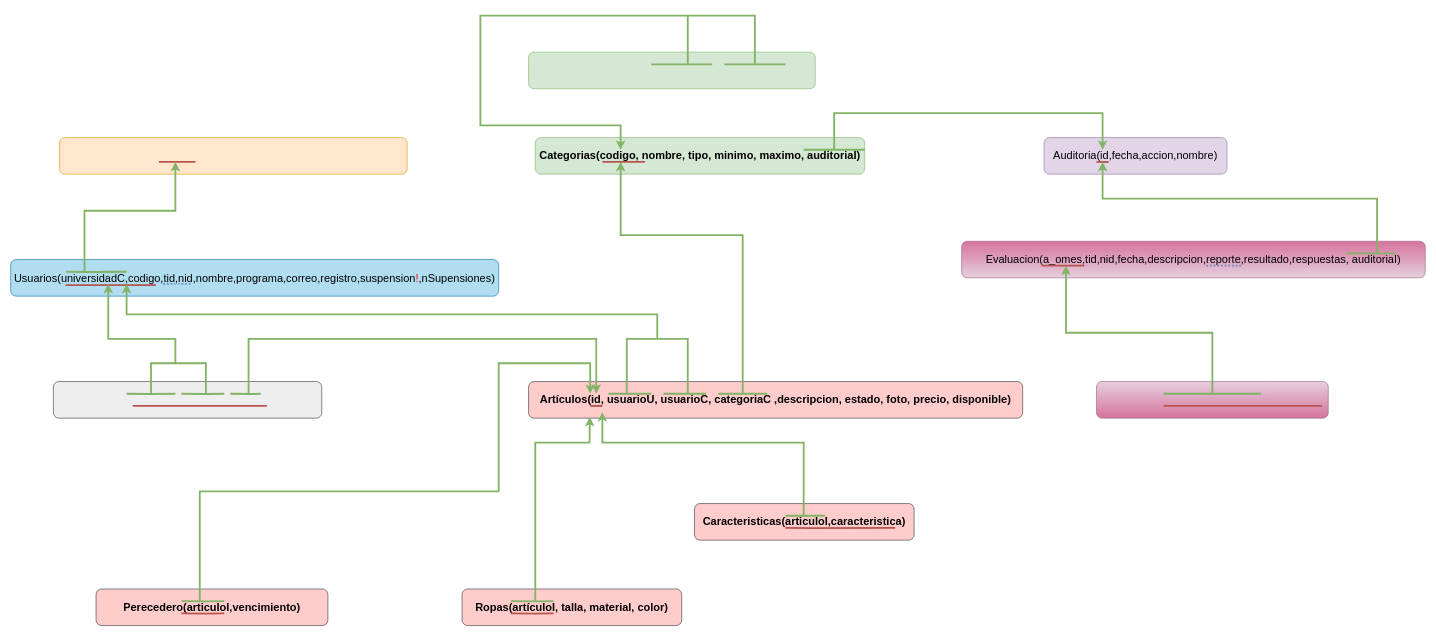
The diagram is 1436 pixels wide and 636 high, and some of its shapes have lost their labels. Here are the shapes that lost their labels. From the top down, the centre of each, then its label:
pixel 671 70: Pertenecimientos(CategoriaC1, CategoriaC2)
pixel 233 155: Universidad(codigoUn, representante ! , nombre,direccion)
pixel 187 399: Calificaciónes(usuarioU, UsuarioC,articuloI, estrellas)
pixel 1212 399: Respuestas(evaluacionA_omes, respuesta)
